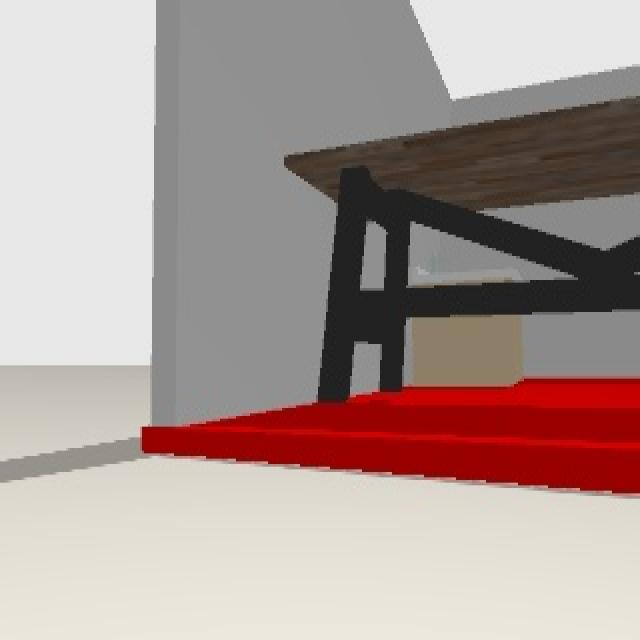dining: (287, 94, 640, 400)
